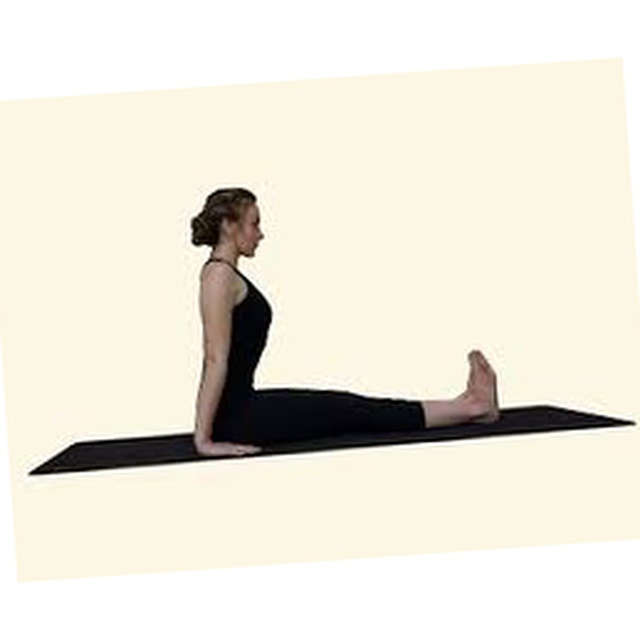Staff_Pose: (191, 187, 500, 460)
